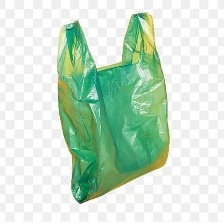plastic_bag: (54, 6, 170, 208)
